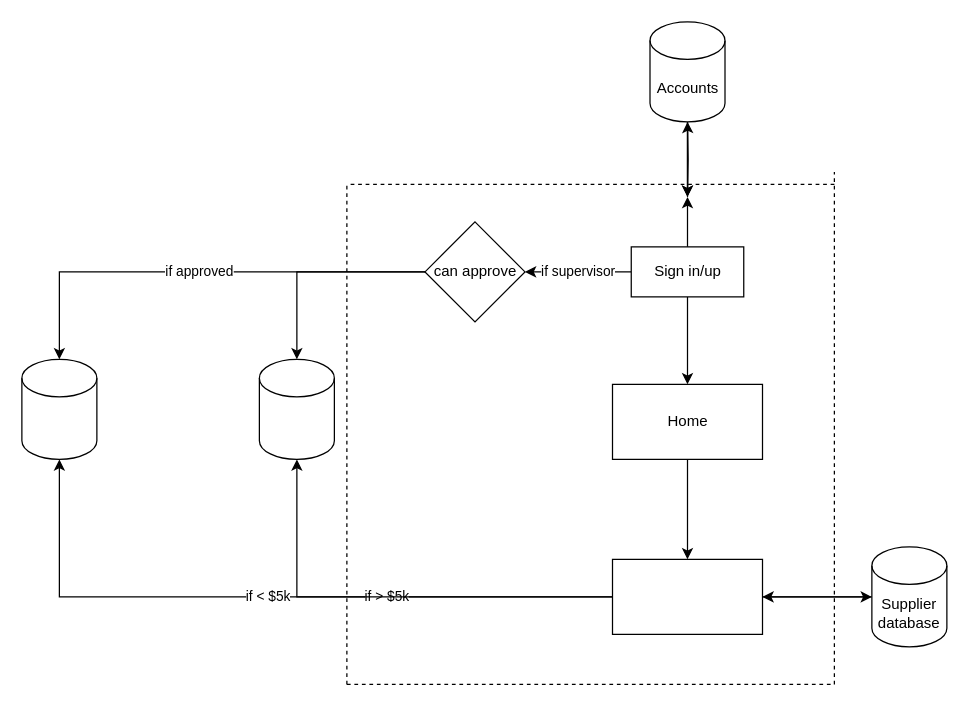
The diagram is 969 pixels wide and 708 high, and some of its shapes have lost their labels. Here are the shapes that lost their labels. From the top down, the centre of each, then its label:
At point (59, 408): "ordered".
At point (296, 408): "Queue".
At point (686, 596): "Search/Order".
